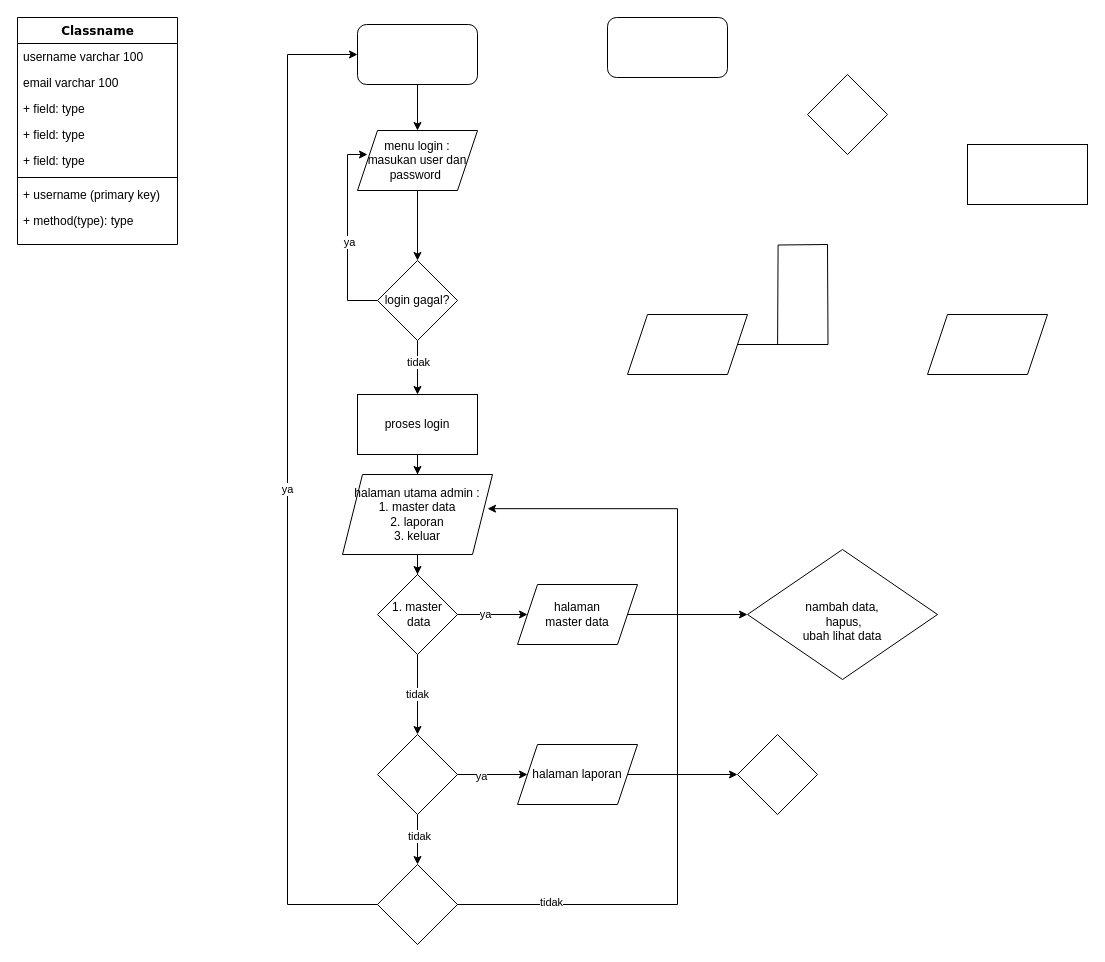
Some shapes in this 1105 by 962 pixel diagram are drawn without their labels. Here are the shapes that lost their labels. From the top down, the box of each, then its label:
(356, 24, 478, 84): aplikasi start
(376, 734, 458, 814): 2. laporan
(736, 734, 818, 814): laporan yang mana?
(376, 864, 458, 944): 3. keluar?
